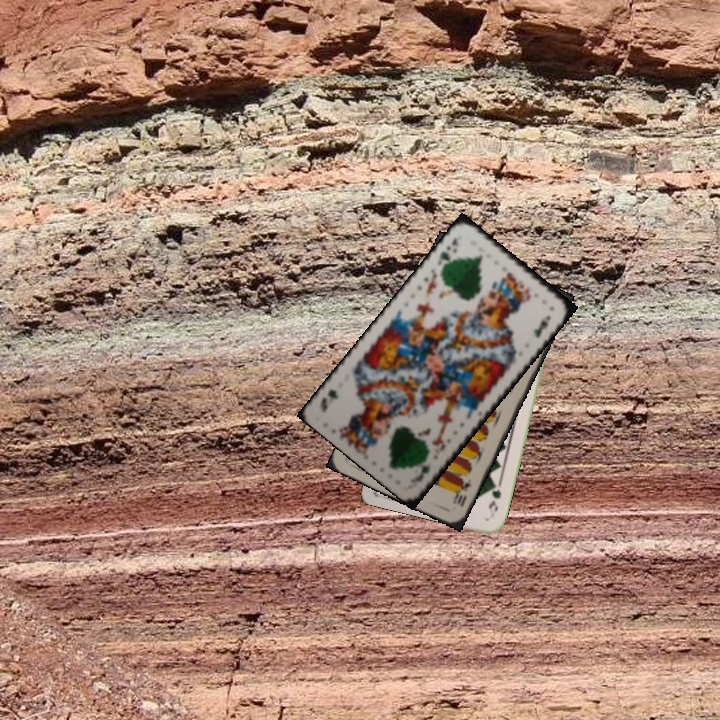E10: (449, 475, 474, 510)
G9: (485, 478, 504, 514)
GK: (435, 232, 461, 270), (417, 453, 434, 480)
